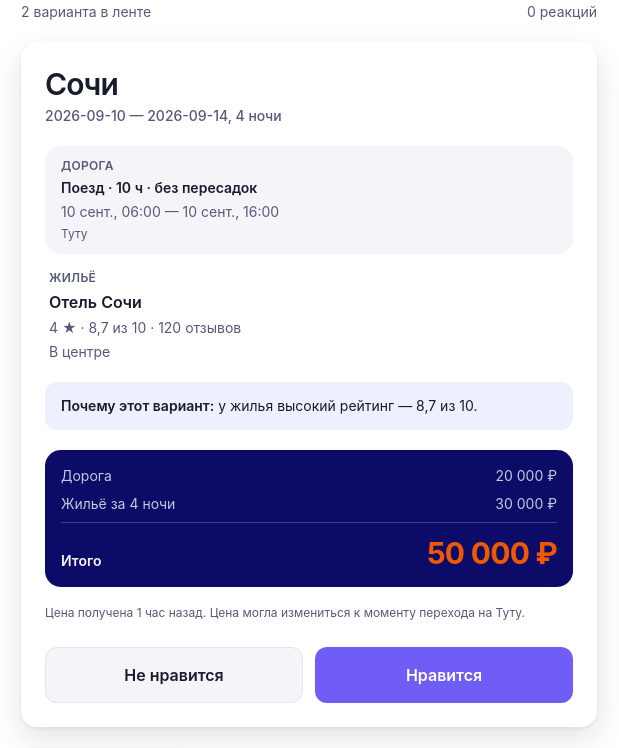
Test: swipe feed › AC23: a gesture and click racing on one card count once
This screenshot has width=619, height=748.
(page scrolled)
Expected: the heading "Сочи" is shown, [45,66,118,102]
Press the mouse on the element that starts with "Сочи" at (309, 384), box [21,42,597,727]
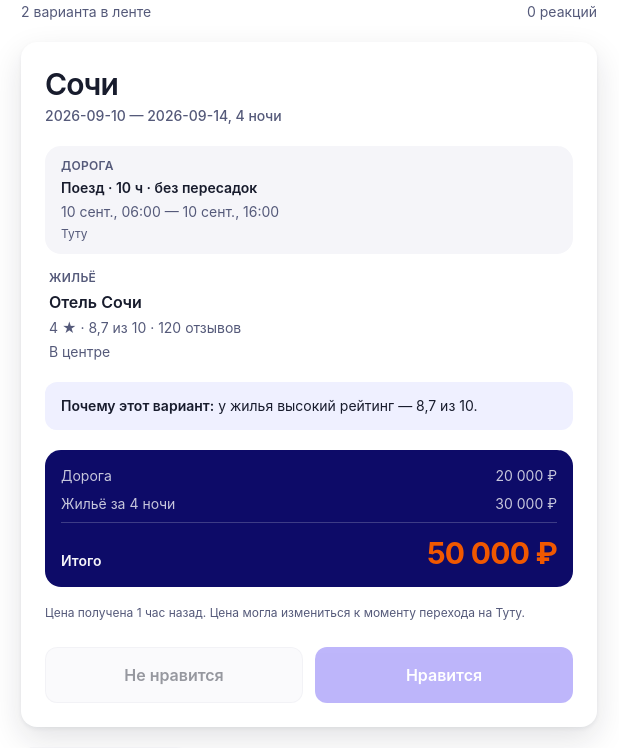
Click the button "Нравится".
click(444, 675)  # box [315,647,573,703]
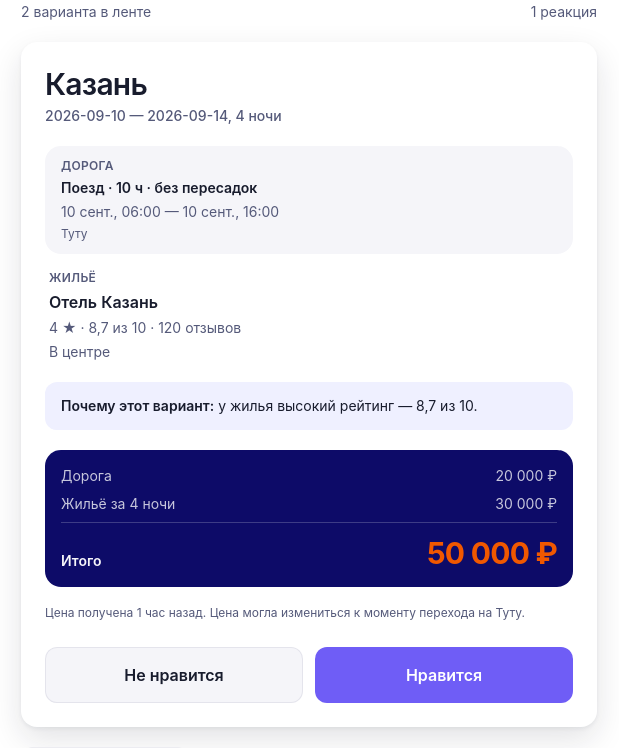
Now the heading "Казань" is shown, box [45,66,147,102]
